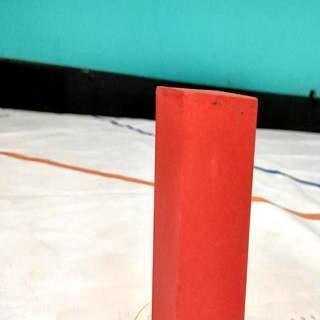redbox: (152, 84, 260, 320)
